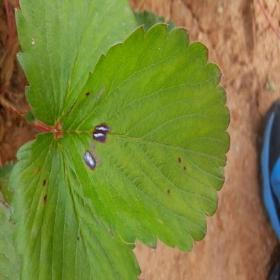Leaf Spot: (52, 23, 231, 253), (8, 132, 142, 279)
